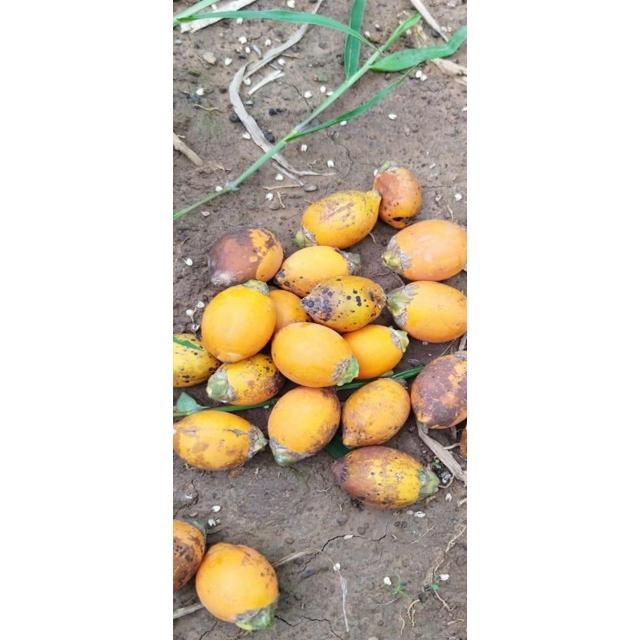good: (195, 543, 281, 627), (333, 446, 441, 508), (200, 283, 276, 363), (266, 386, 342, 462), (272, 322, 356, 390), (174, 408, 266, 469), (382, 220, 466, 282), (340, 378, 412, 448), (386, 281, 466, 343), (300, 275, 386, 331), (300, 190, 382, 248), (208, 228, 284, 288), (409, 352, 466, 430), (275, 246, 357, 298), (205, 354, 285, 406), (342, 324, 406, 380), (372, 165, 422, 227), (174, 334, 222, 388), (174, 518, 206, 598), (269, 289, 309, 333), (184, 518, 206, 542), (294, 228, 314, 248), (376, 160, 396, 176), (408, 382, 416, 410)
